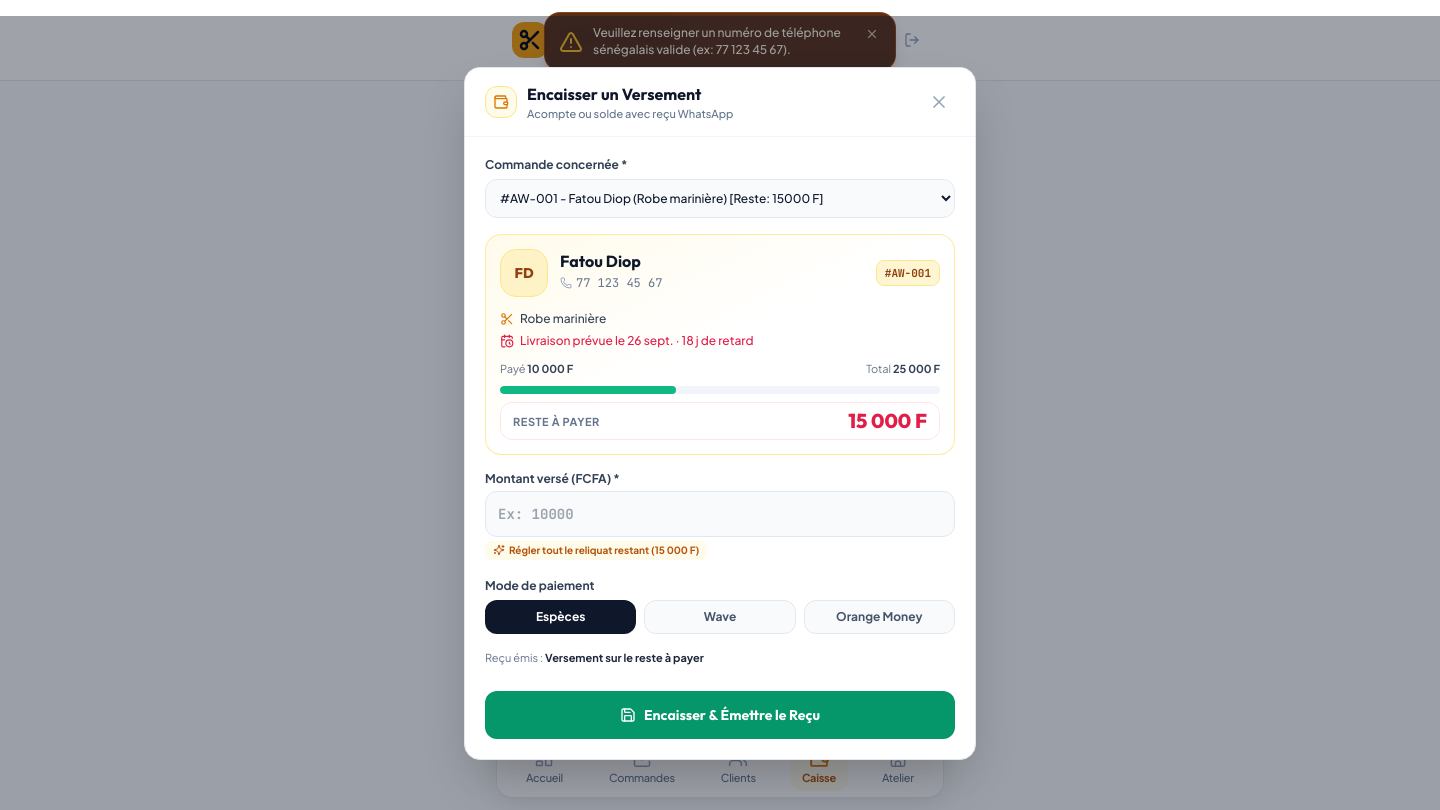
Test: écrans de l’application › encaissements › ouvre la modale d’encaissement pré-remplie depuis ?orderId=
Expected: the dropdown labelled "Commande concernée *" shows "#AW-001 - Fatou Diop (Robe marinière) [Reste: 15000 F]", [485,179,955,218]
Step 1. Click the button "Régler tout le reliquat restant (15 000 F)" → click(596, 550), box [485,540,707,560]
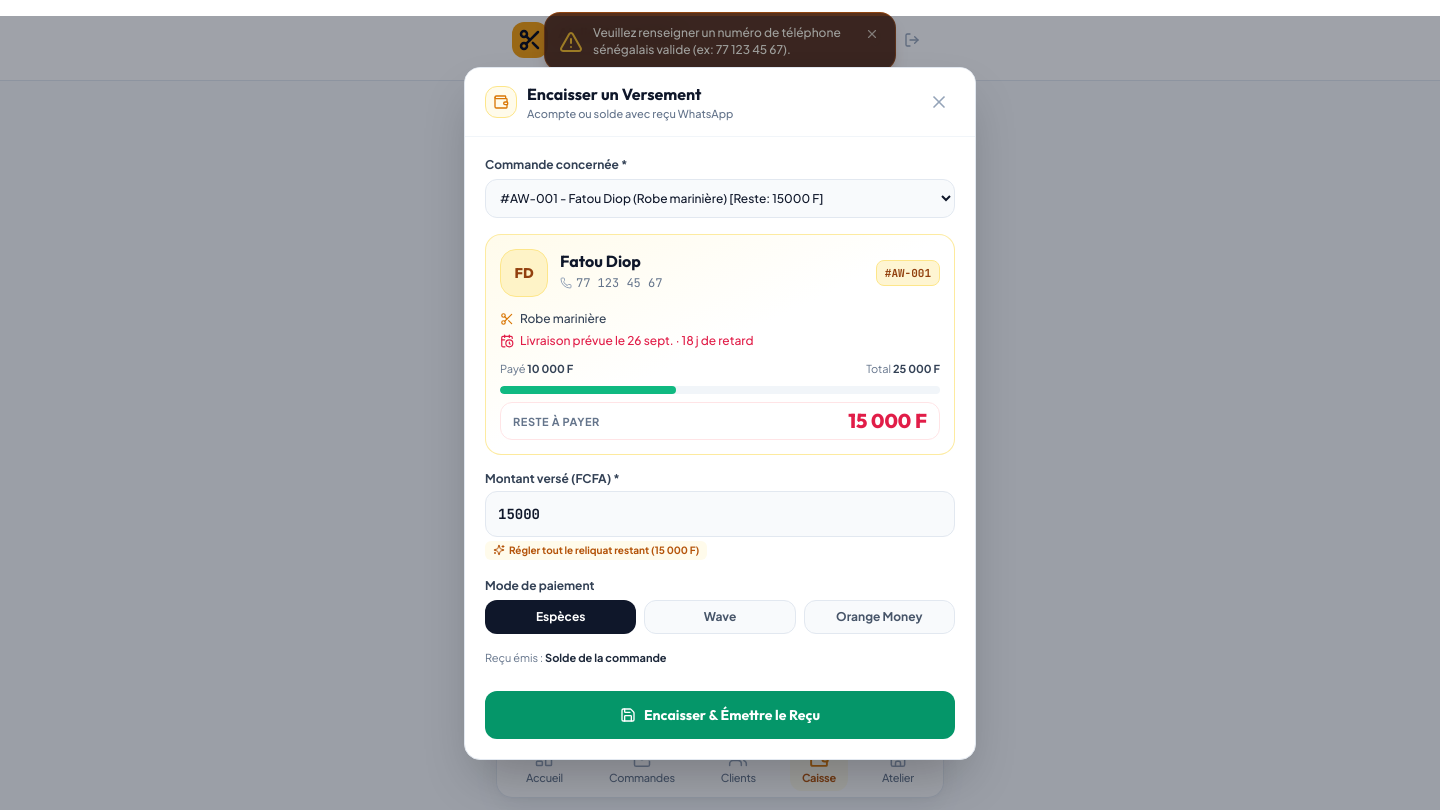
Expected: the number field labelled "Montant versé (FCFA) *" holds "15000", [485,490,955,536]
Step 2. Click the button "Orange Money" → click(879, 617), box [804,600,955,634]
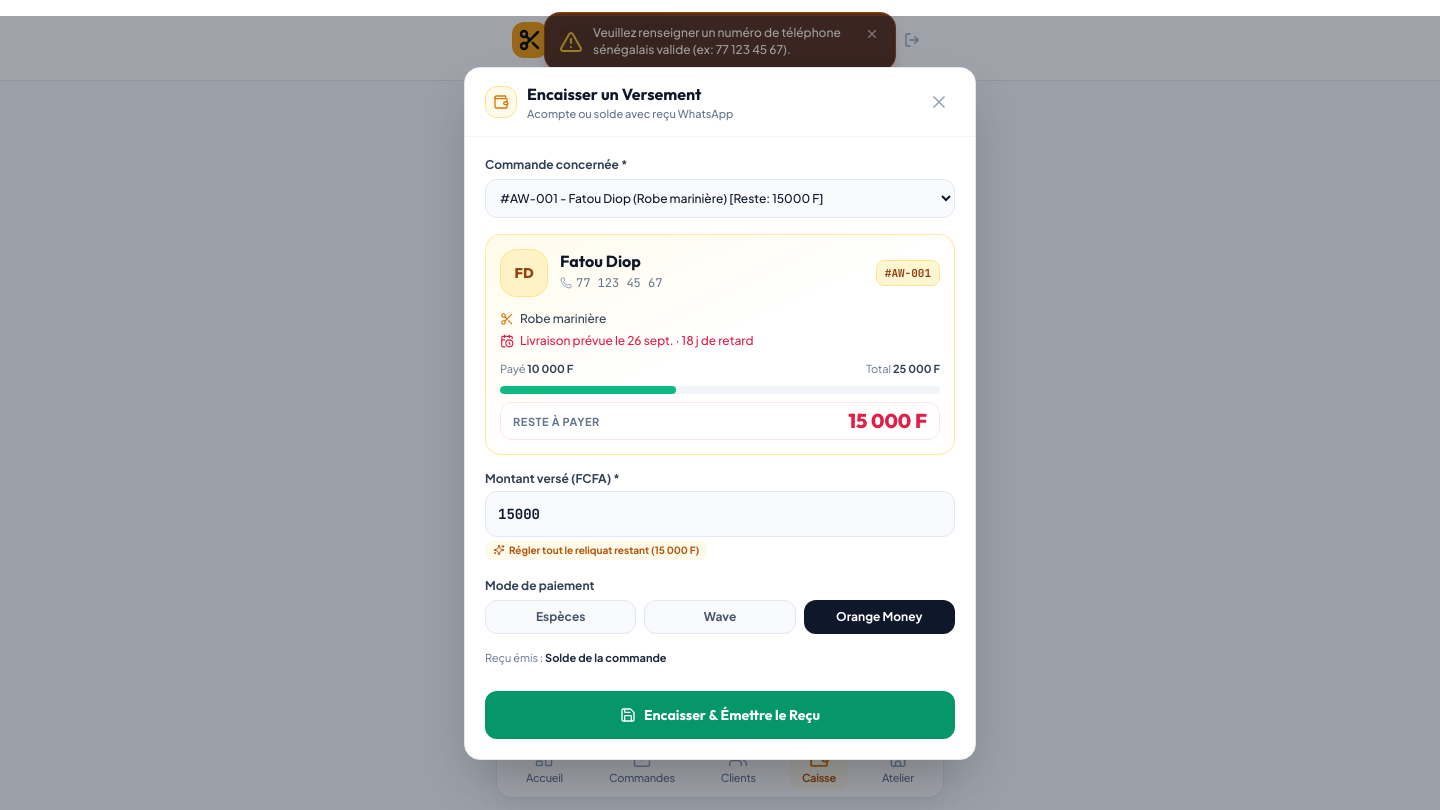
Expected: the text "Solde de la commande" is shown, [545,651,667,664]
Step 3. Click the button "Encaisser & Émettre le Reçu" → click(720, 714), box [485,690,955,738]
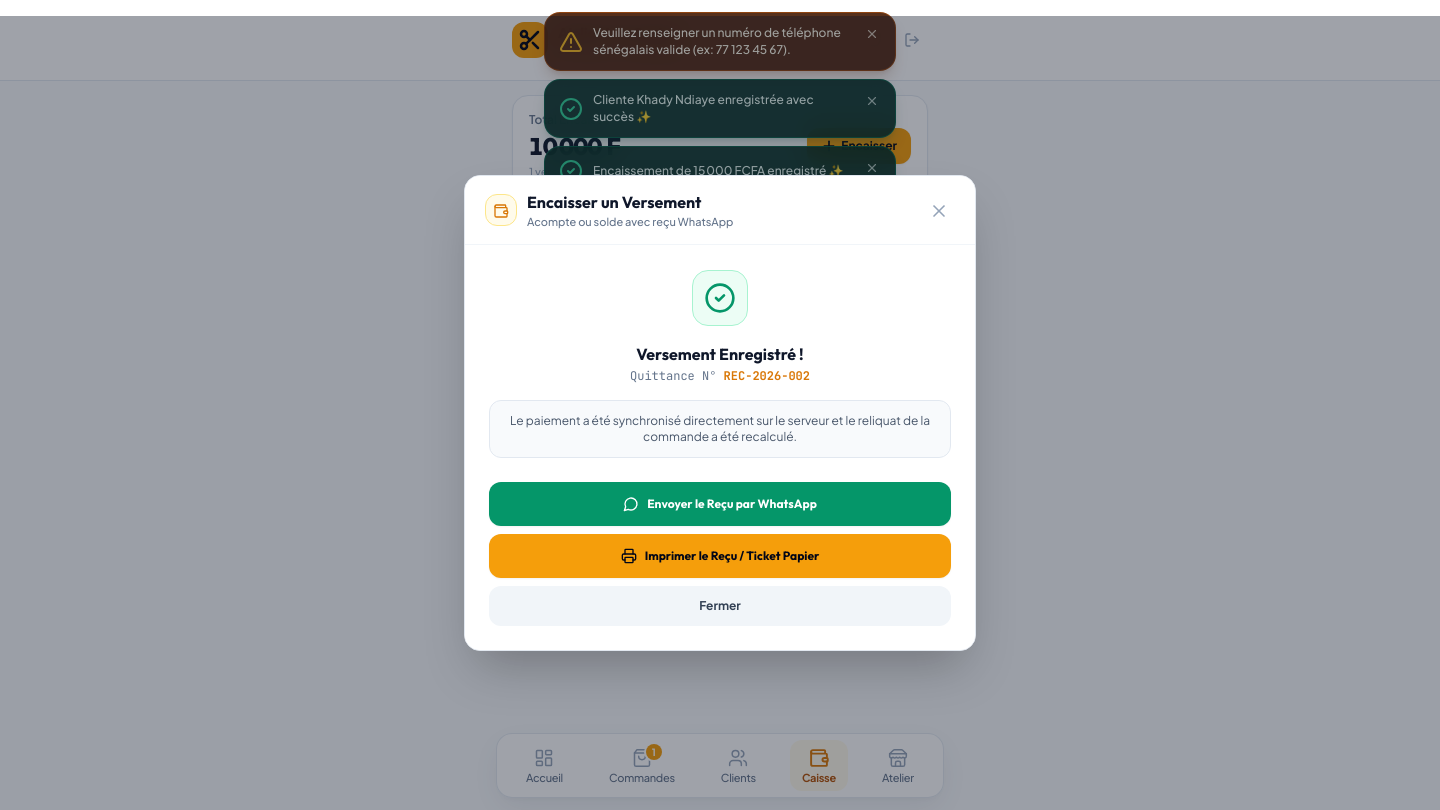
Expected: the heading "Versement Enregistré !" is shown, [636,344,804,364]
Step 4. Click the button "Imprimer le Reçu / Ticket Papier" → click(720, 556), box [489,534,951,578]
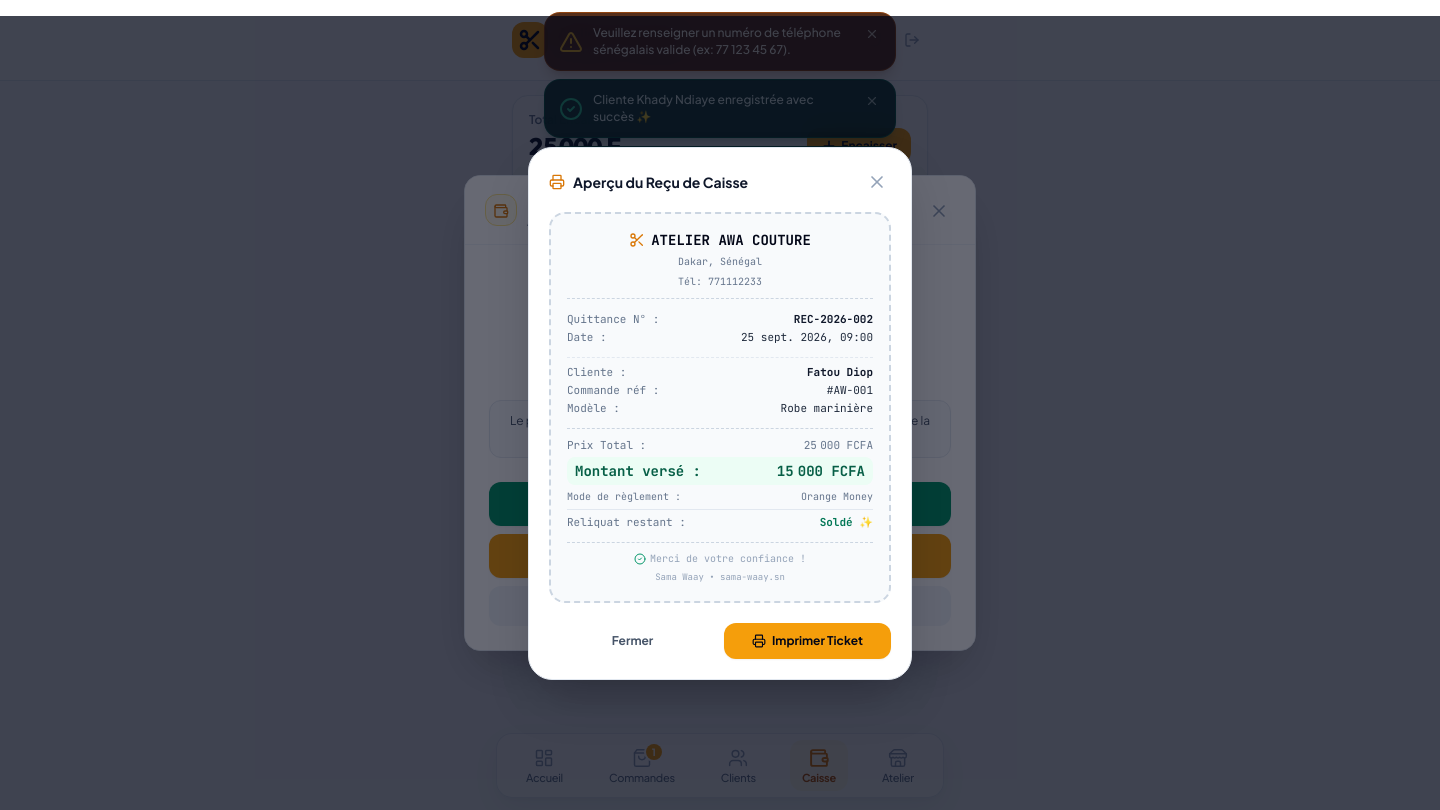
Expected: the dialog "Aperçu du Reçu de Caisse" is shown, [528,146,912,680]
